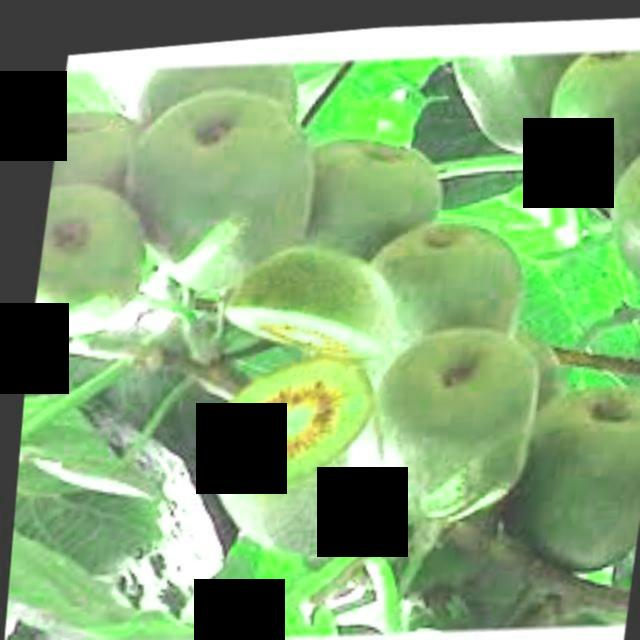kiwi: (107, 71, 324, 294), (363, 316, 546, 535), (353, 213, 536, 359), (515, 379, 640, 590), (298, 129, 446, 271), (28, 167, 151, 334), (536, 47, 640, 215), (593, 133, 640, 316)
